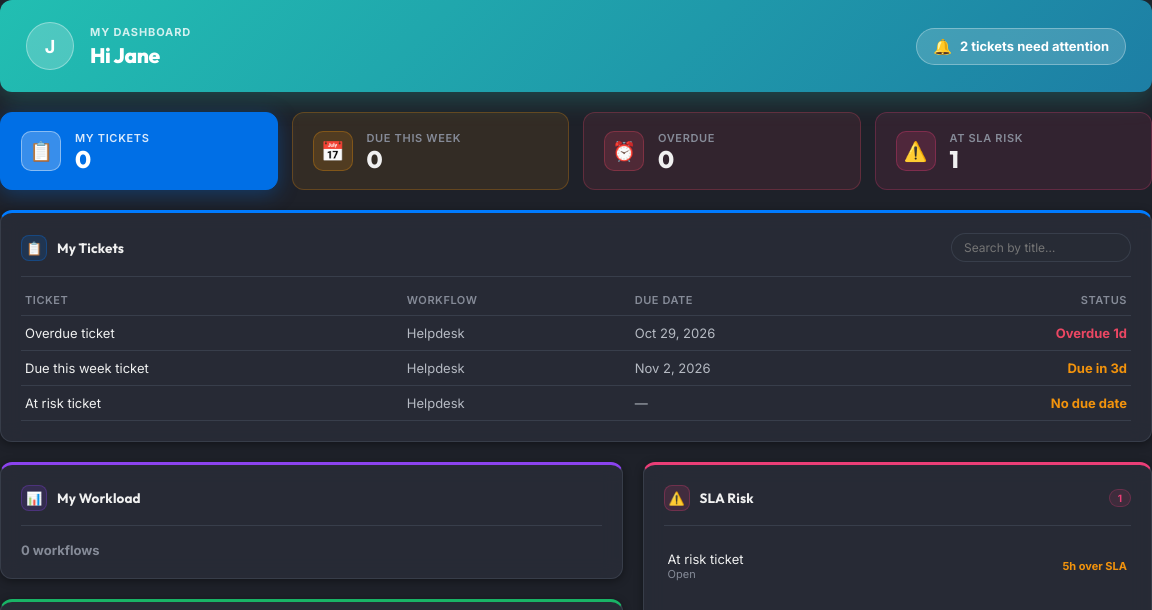
Scenario: Dashboard — KPI tiles filter the My Tickets list › filters to only overdue tickets when the Overdue tile is clicked, and highlights it
The width and height of the screenshot is (1152, 610).
Expected: the text "Overdue ticket" is shown, [21,316,403,350]
Step 1. Click the text "Overdue" → click(687, 138), box [658,131,715,145]
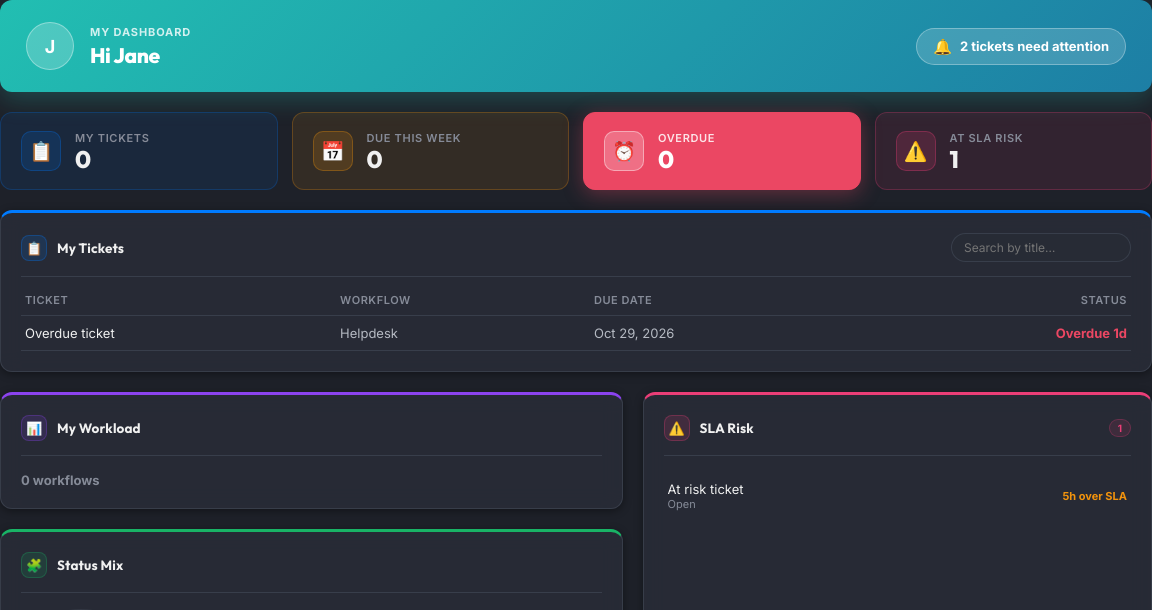
Expected: the text "Overdue ticket" is shown, [21,316,336,350]
Expected: the text "Due this week ticket" is gone
